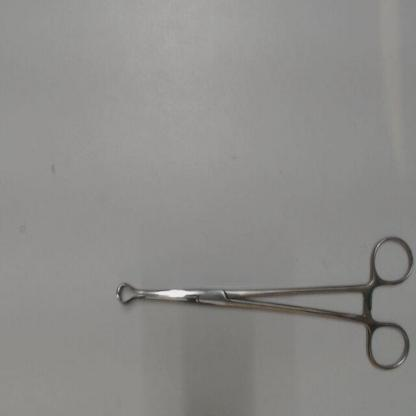8 Babcock Tissue Forceps: (109, 228, 414, 383)
